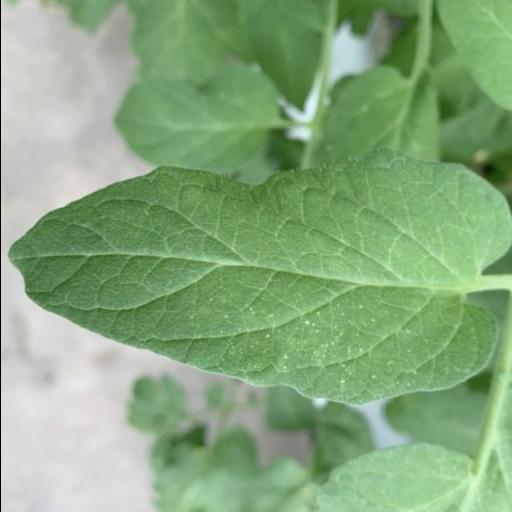Spider Mites: (8, 168, 512, 406)
